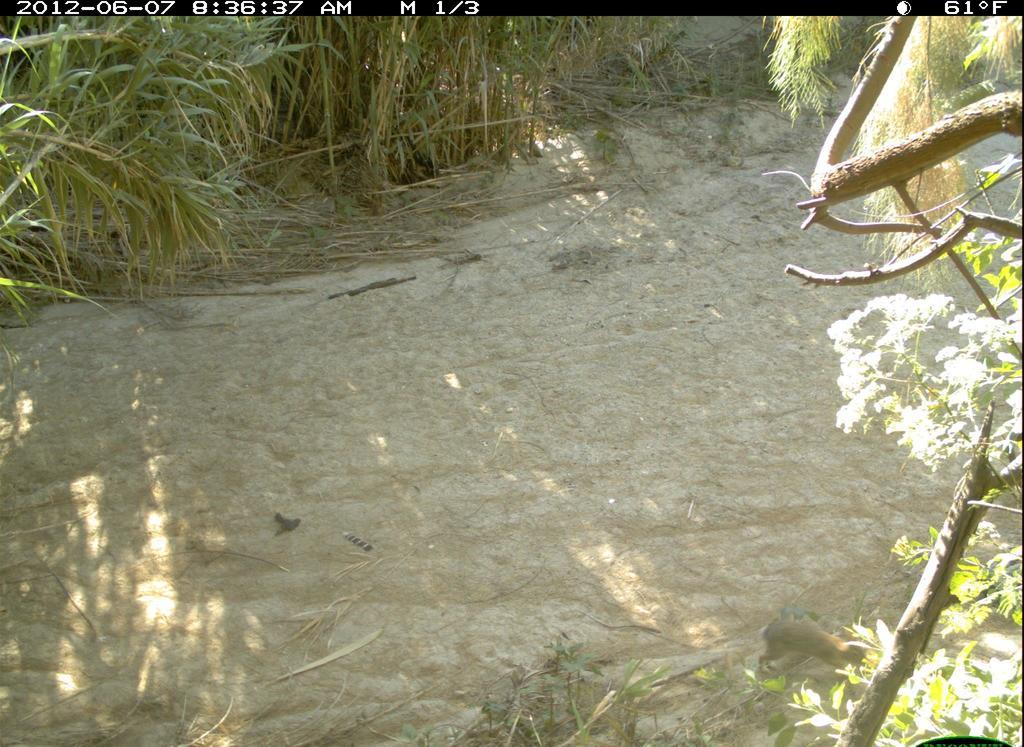rabbit: (745, 609, 876, 688)
